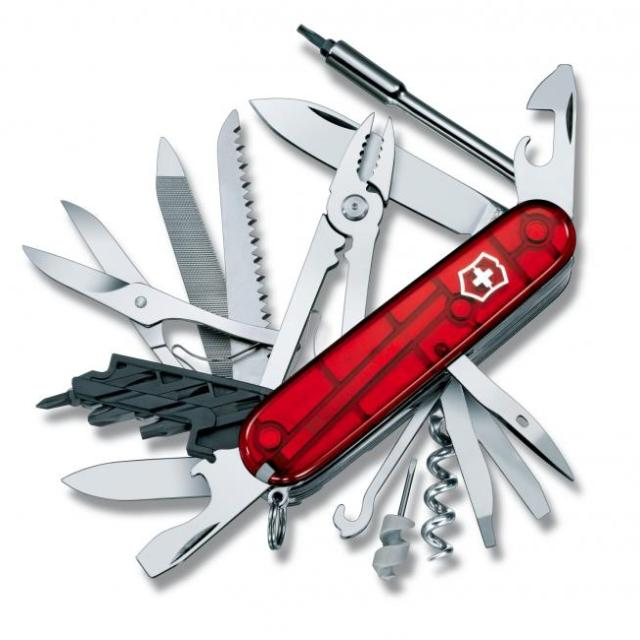knife victorinox: (238, 200, 575, 494)
